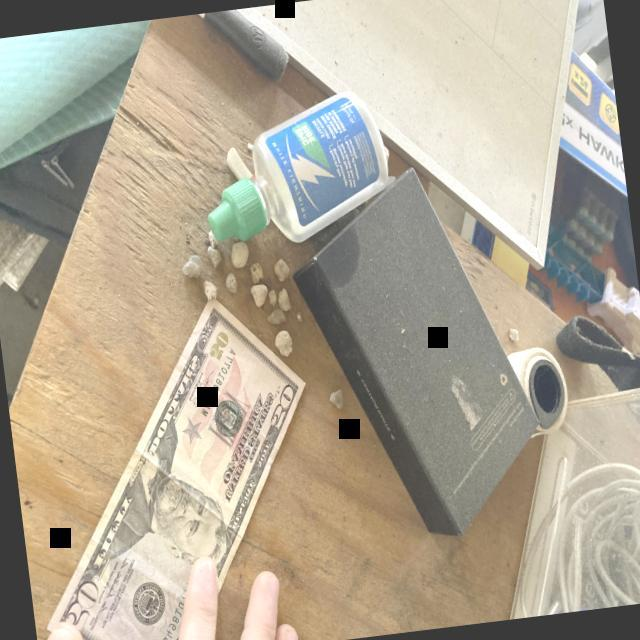fifty: (47, 293, 304, 640)
